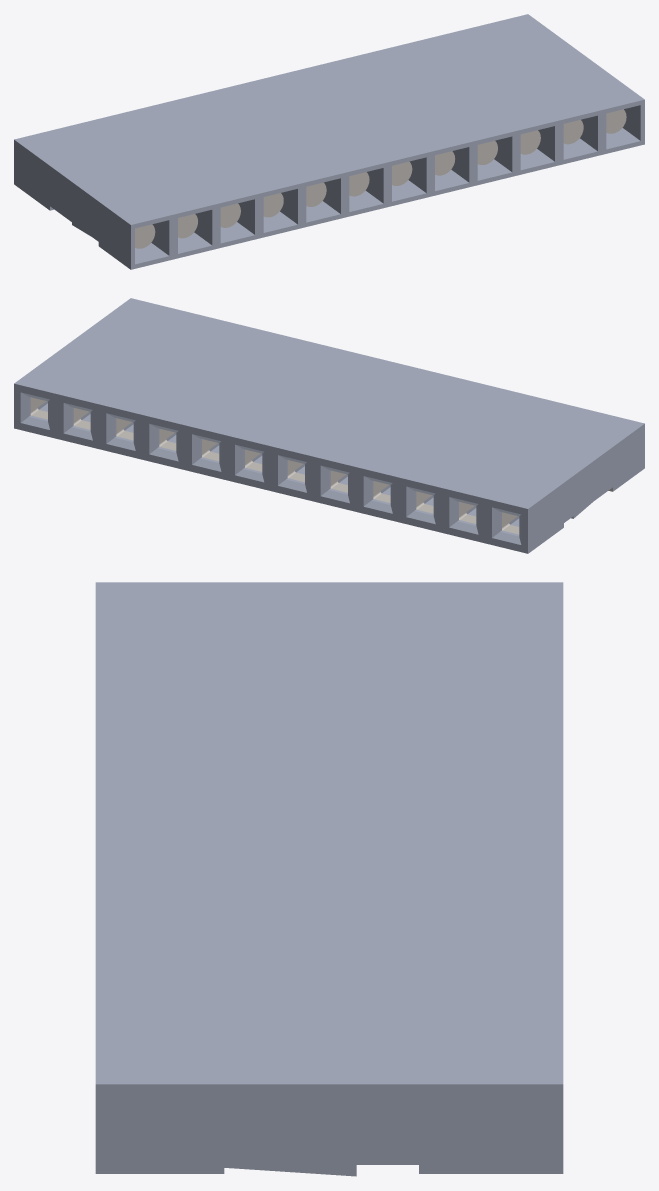
The picture shows the model from 3 angles, top to bottom: view 1: azimuth 30°, elevation 25°; view 2: azimuth 150°, elevation 25°; view 3: azimuth 270°, elevation 25°; orthographic projection. The views are drawn at different scales.
Parts seen in each view (by area): view 1: DS1071-1x12; view 2: DS1071-1x12; view 3: DS1071-1x12.
Boxes of the visible parts, box(x1,y1,x2,y2) form: DS1071-1x12: box(14, 14, 644, 269); DS1071-1x12: box(14, 298, 644, 553); DS1071-1x12: box(95, 582, 563, 1176).
Size of the model in its own units: 0.0113 by 0.00103 by 0.00444.
